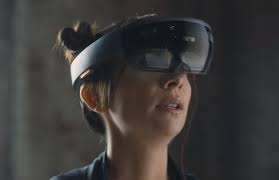hololens: (70, 13, 213, 94)
